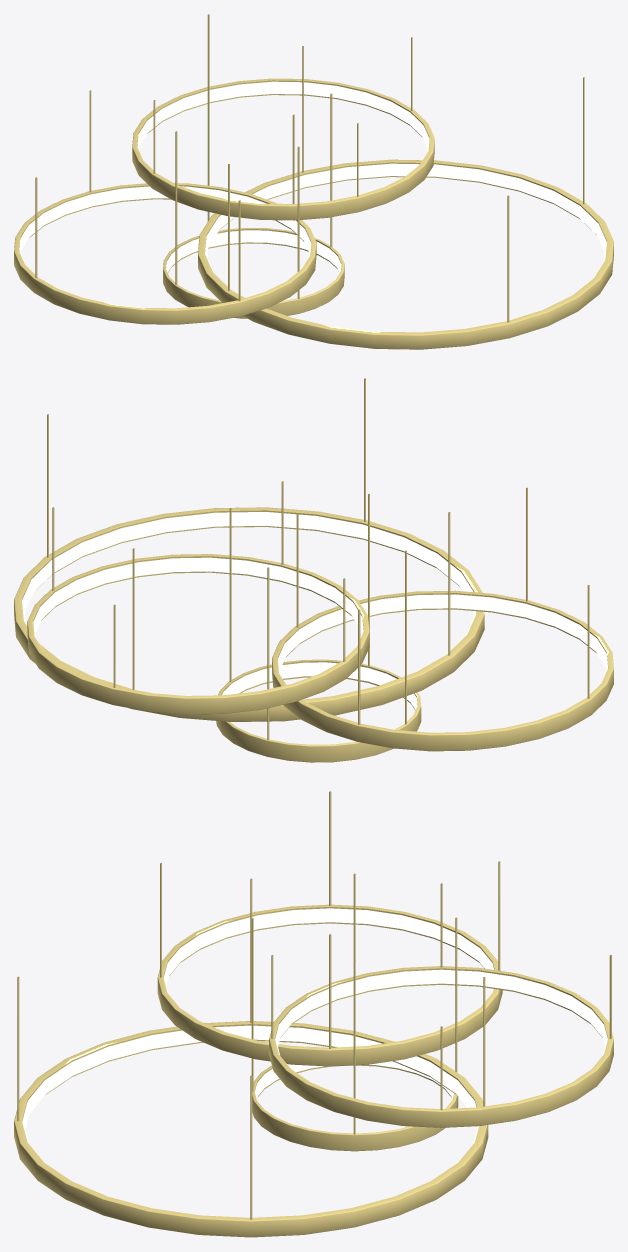
Rendered from lights_circular_ceiling_light.fbx.
3 views of the same model, one above another, from view 1: azimuth 30°, elevation 25°; view 2: azimuth 150°, elevation 25°; view 3: azimuth 270°, elevation 25° (orthographic). The views are drawn at different scales.
Parts seen in each view (by area): view 1: Circle.001; view 2: Circle.001; view 3: Circle.001.
Part boxes in pixels (<box>): Circle.001: <box>14,14,613,349</box>; Circle.001: <box>14,378,613,762</box>; Circle.001: <box>14,791,613,1237</box>.
Size of the model in its own units: 289 by 89.33 by 255.
